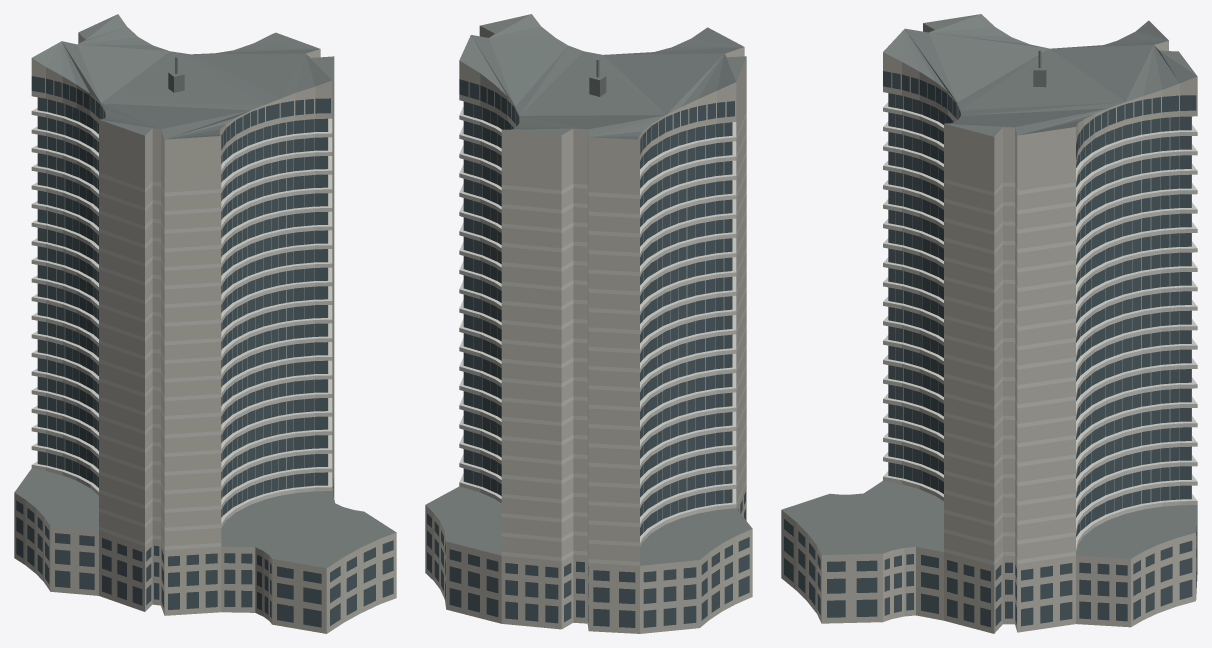
Rendered from intercontinental-bucharest-near.glb.
The picture shows the model from 3 angles, left to right: view 1: azimuth 30°, elevation 25°; view 2: azimuth 150°, elevation 25°; view 3: azimuth 270°, elevation 25°; orthographic projection. The views are drawn at different scales.
Parts seen in each view (by area): view 1: intercontinental-bucharest-0-stone, intercontinental-bucharest-0-glass, intercontinental-bucharest-0-balcony, intercontinental-bucharest-0-roof; view 2: intercontinental-bucharest-0-stone, intercontinental-bucharest-0-glass, intercontinental-bucharest-0-balcony, intercontinental-bucharest-0-roof; view 3: intercontinental-bucharest-0-stone, intercontinental-bucharest-0-glass, intercontinental-bucharest-0-balcony, intercontinental-bucharest-0-roof.
Boxes of the visible parts, x1,y1,x2,y2 form: intercontinental-bucharest-0-stone: (14, 33, 396, 633); intercontinental-bucharest-0-glass: (16, 76, 393, 627); intercontinental-bucharest-0-balcony: (31, 108, 334, 549); intercontinental-bucharest-0-roof: (14, 14, 396, 568); intercontinental-bucharest-0-stone: (425, 26, 752, 633); intercontinental-bucharest-0-glass: (427, 79, 749, 627); intercontinental-bucharest-0-balcony: (459, 106, 746, 565); intercontinental-bucharest-0-roof: (425, 14, 752, 565); intercontinental-bucharest-0-stone: (781, 23, 1197, 633); intercontinental-bucharest-0-glass: (784, 71, 1196, 627); intercontinental-bucharest-0-balcony: (883, 102, 1197, 565); intercontinental-bucharest-0-roof: (782, 14, 1197, 558).
Bounding box in the file's own units: 52.25 × 90 × 66.
